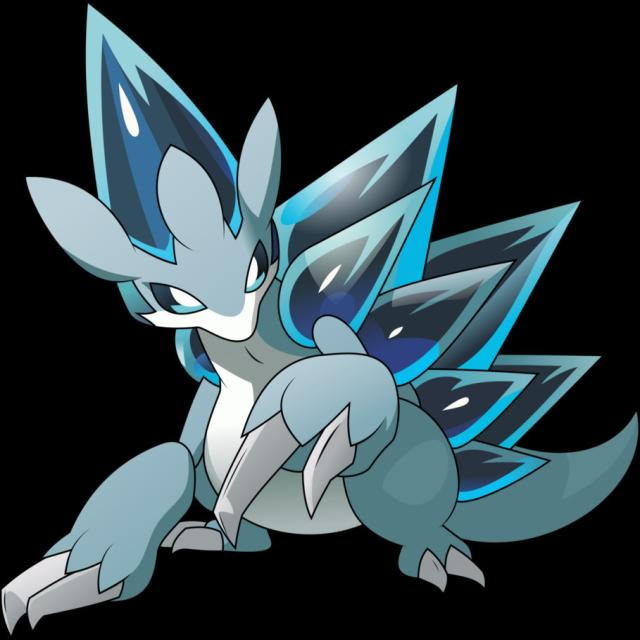Alolan: (82, 124, 534, 592)
